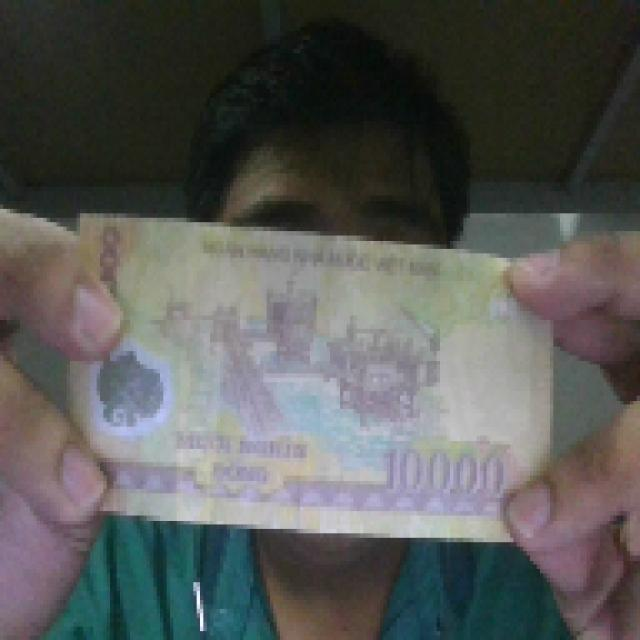10 000 VND: (43, 204, 560, 546)
